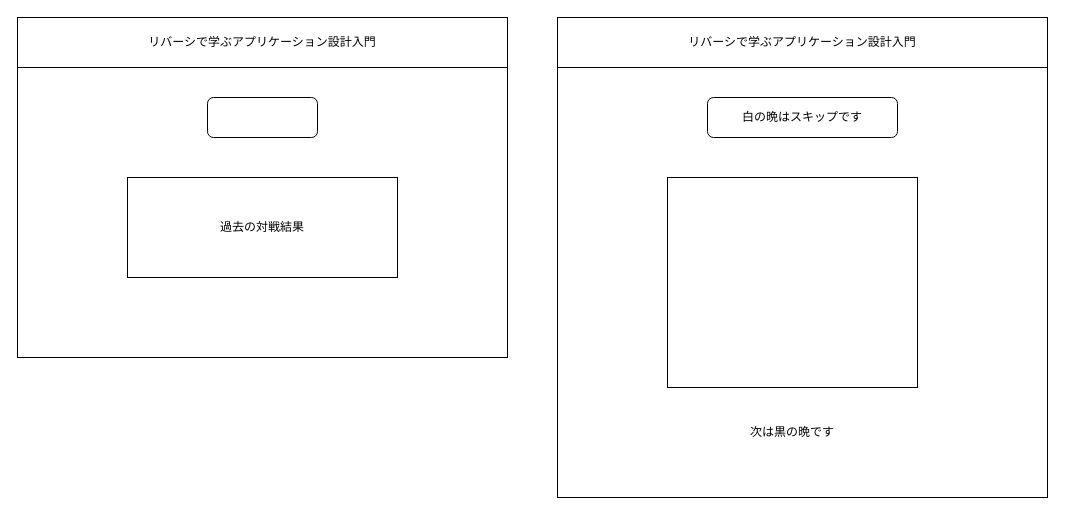
The diagram is 1065 pixels wide and 515 high, and some of its shapes have lost their labels. Here are the shapes that lost their labels. From the top down, the centre of each, then its label:
(262,117): 対戦する
(792,282): 盤面
